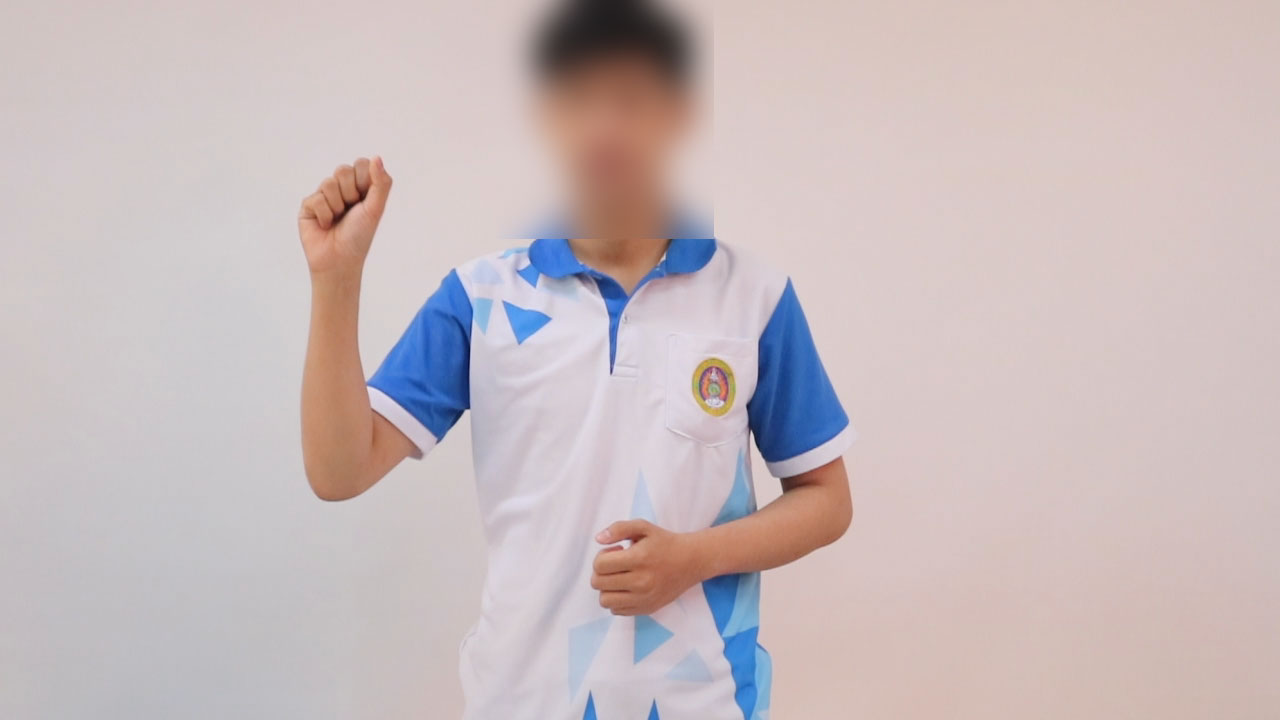sor: (288, 141, 403, 284)
